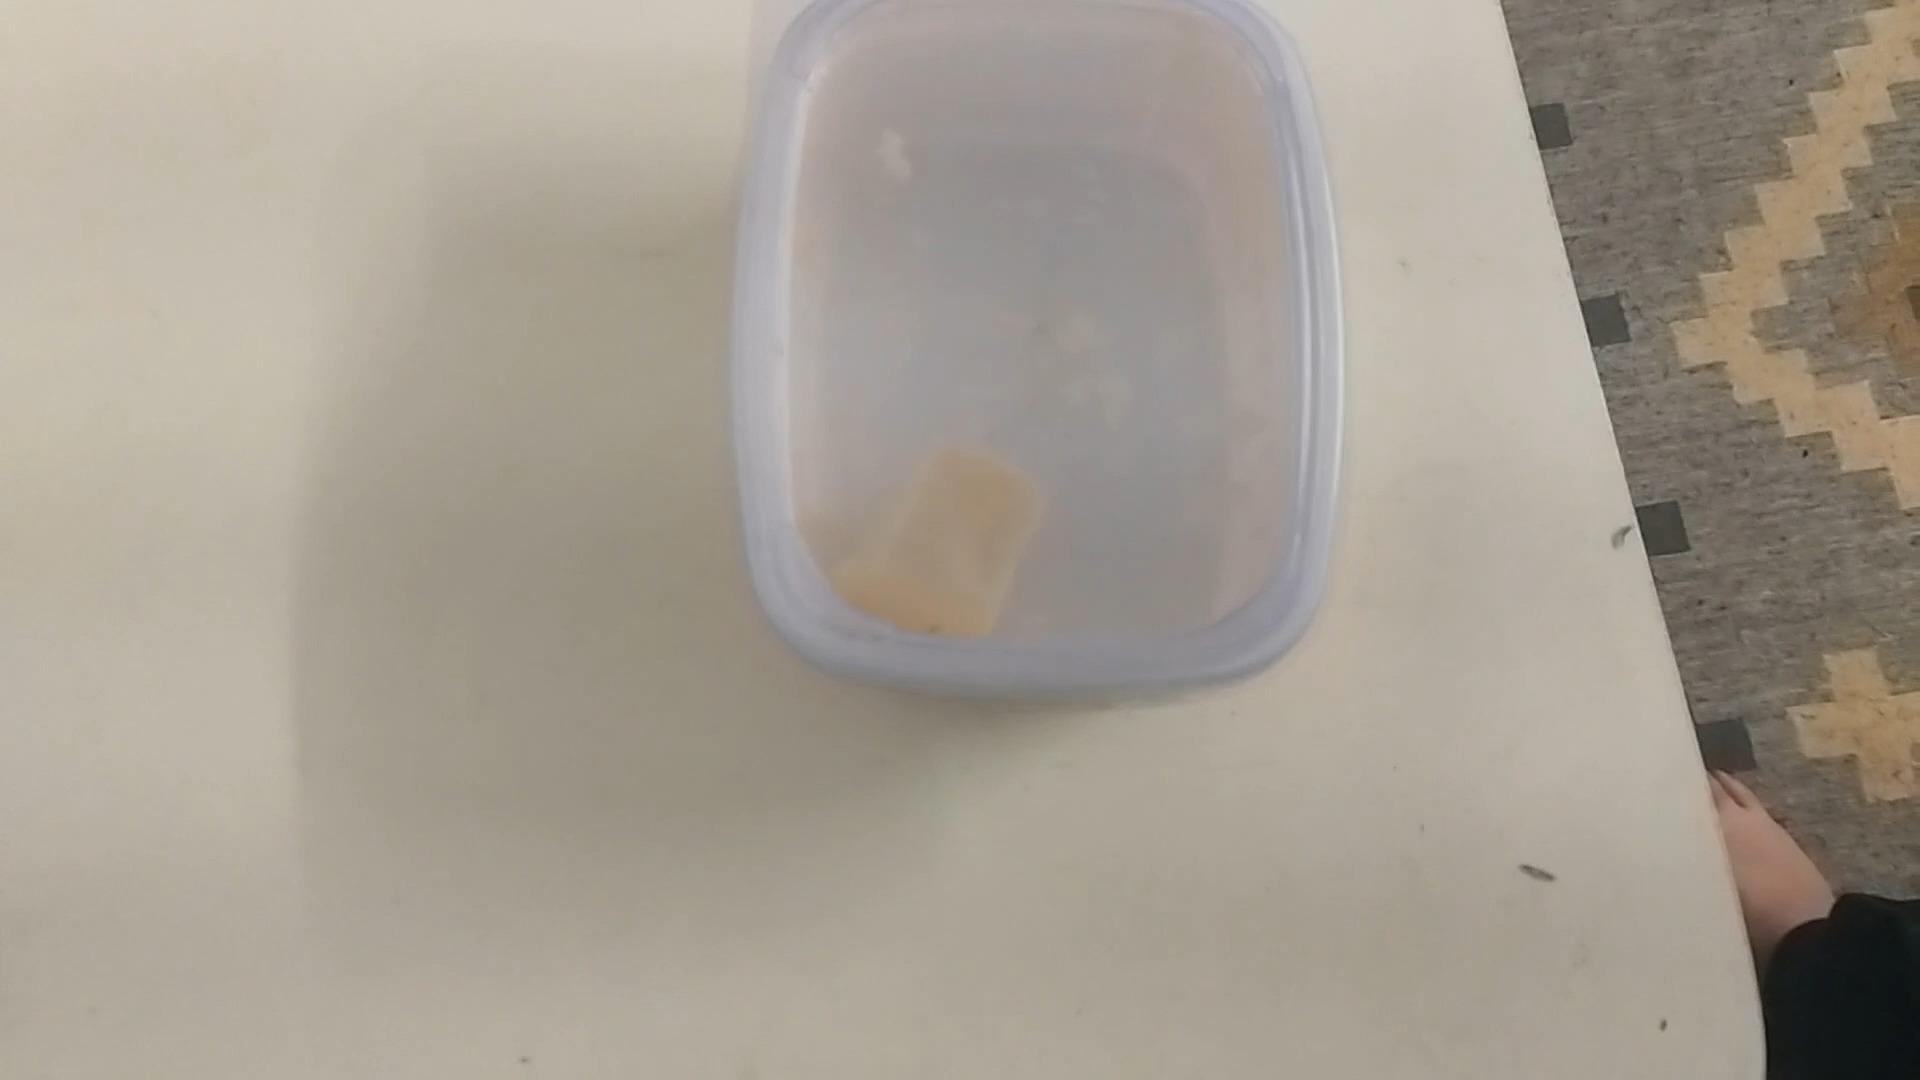butter: (737, 13, 1320, 702)
